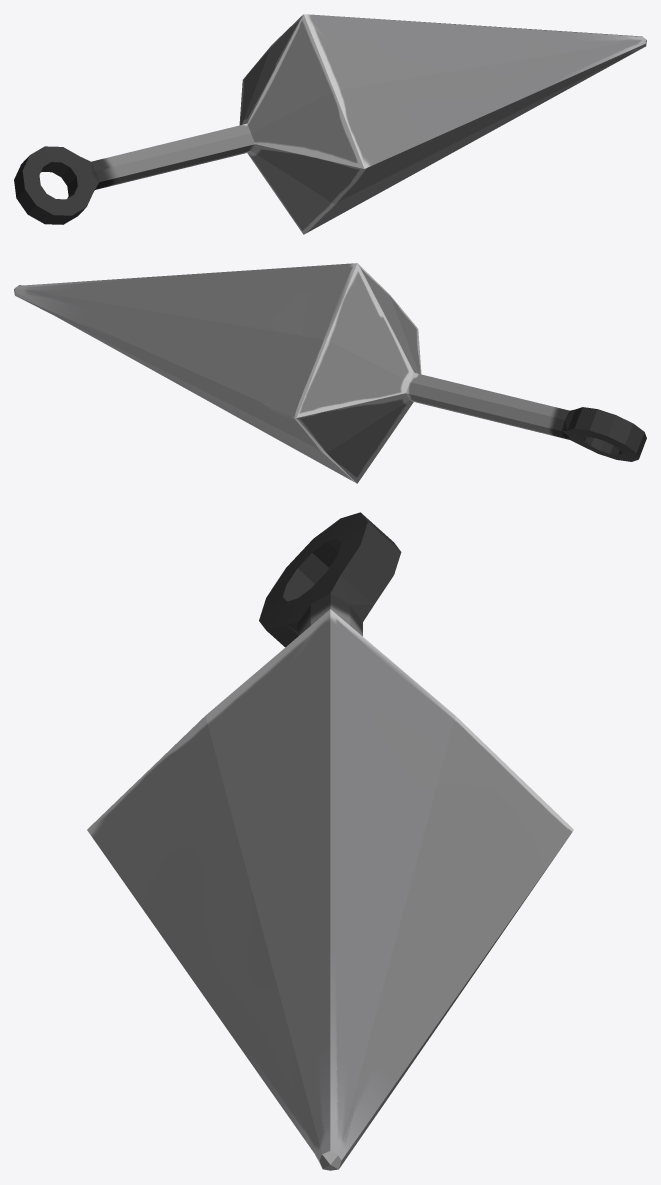
The model's file is kunai.glb.
3 views of the same model, one above another, from view 1: azimuth 30°, elevation 25°; view 2: azimuth 150°, elevation 25°; view 3: azimuth 270°, elevation 25° (orthographic). The views are drawn at different scales.
Parts seen in each view (by area): view 1: Projectile kunai; view 2: Projectile kunai; view 3: Projectile kunai.
Boxes of the visible parts, x1,y1,x2,y2 form: Projectile kunai: (14, 14, 646, 234); Projectile kunai: (14, 263, 646, 483); Projectile kunai: (87, 512, 573, 1170).
Size of the model in its own units: 0.6852 by 0.2307 by 0.2307.
1 material, 1 textured.
